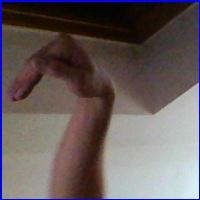del: (6, 31, 128, 134)
